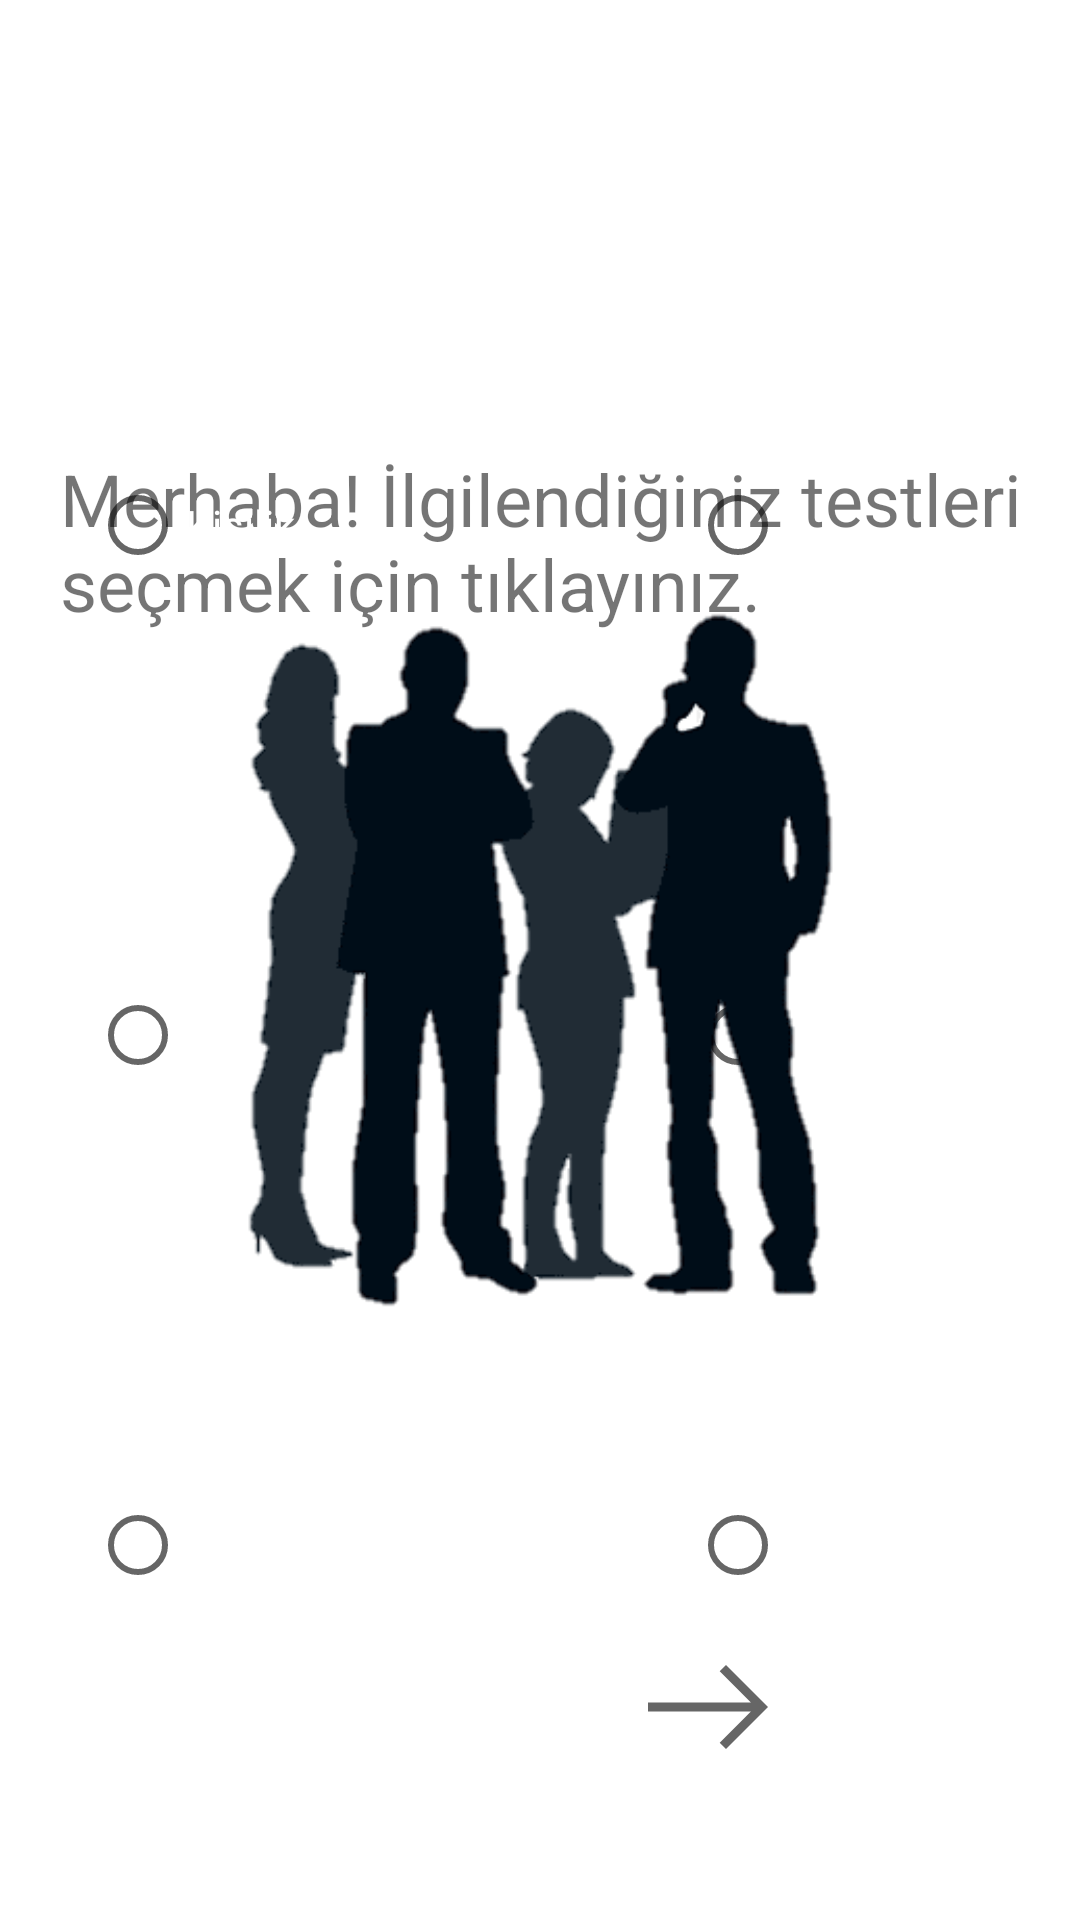

Icons on this 1080px x 1920px Android screen, each with its box as detection(x1, y1, x2, y2):
arrow: detection(648, 1665, 768, 1749)
